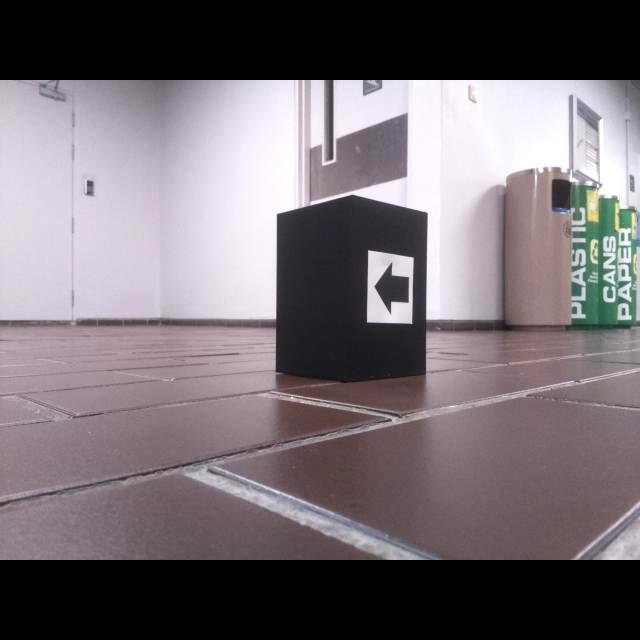LEFT: (374, 260, 409, 316)
